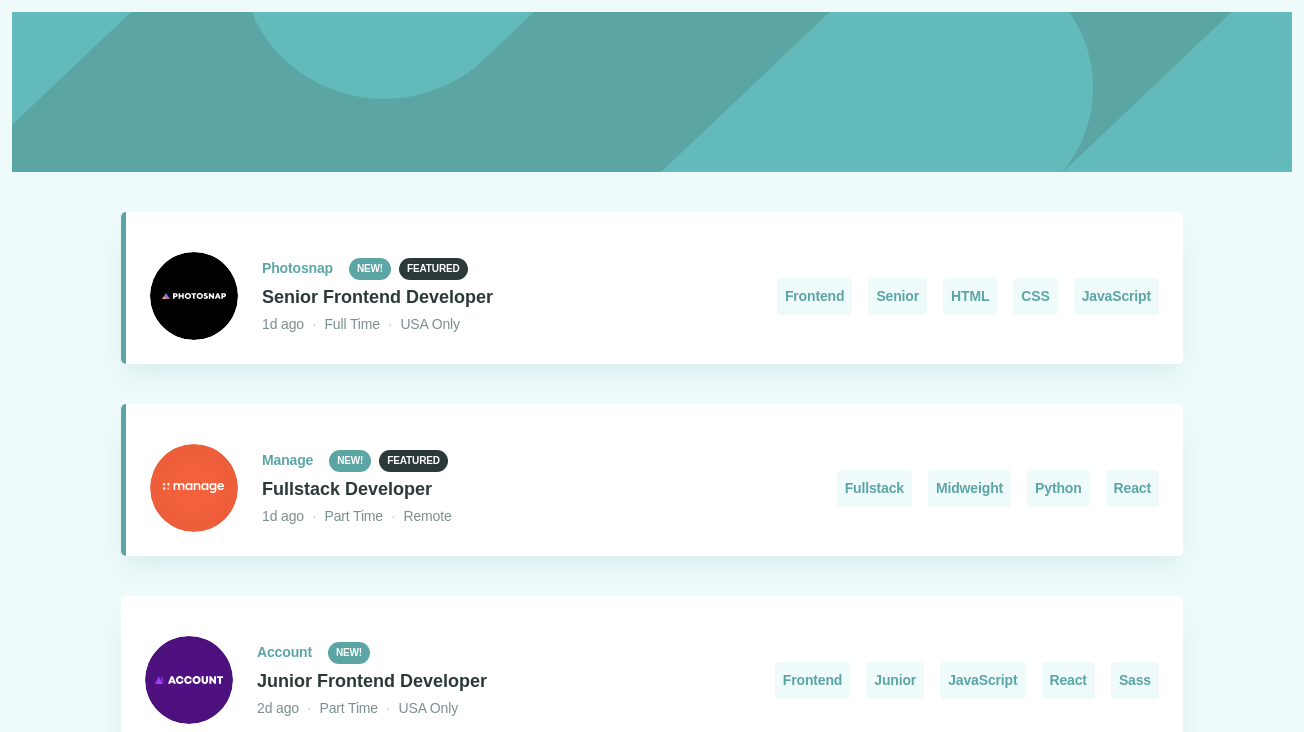
Job Listings App › shows filter bar only when filters are active
Add a filter
Click the button "CSS".
click(1035, 297)  # box 1013,278 -> 1057,315
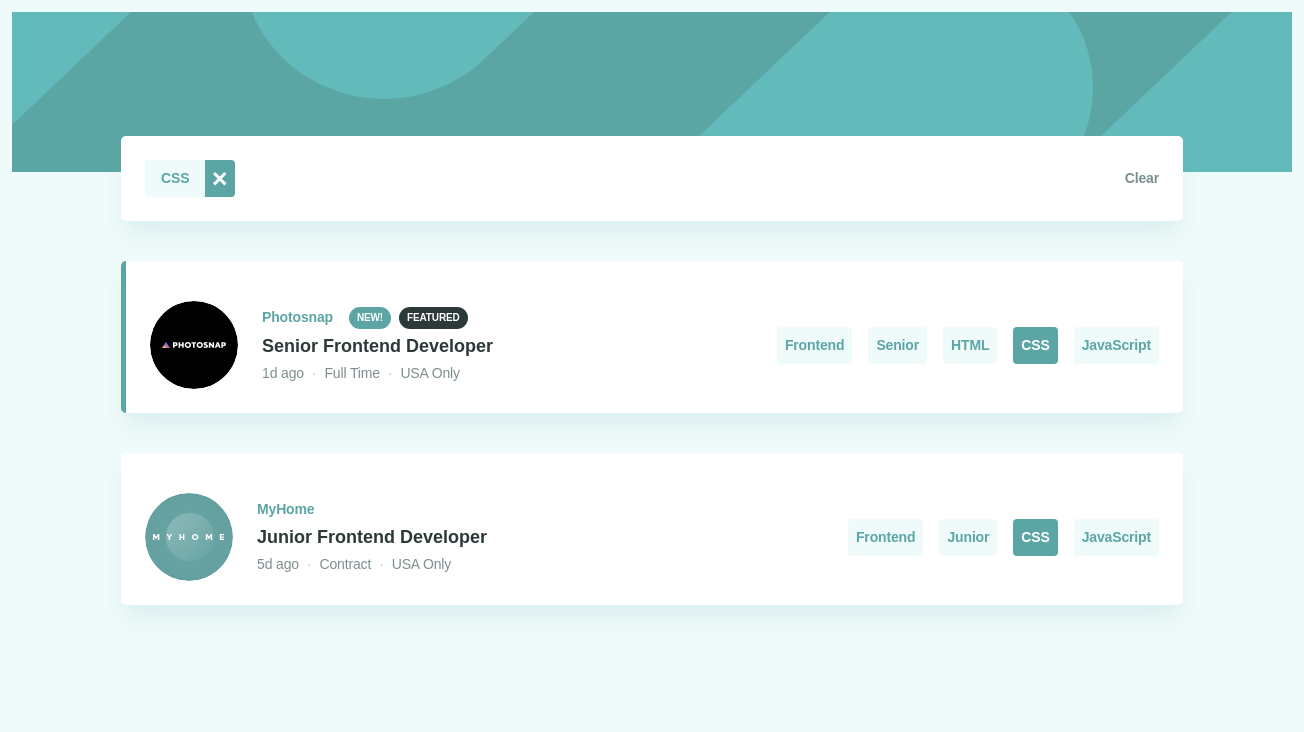
Check: the element with class "filter-bar" is shown, box 121,136 -> 1183,221
